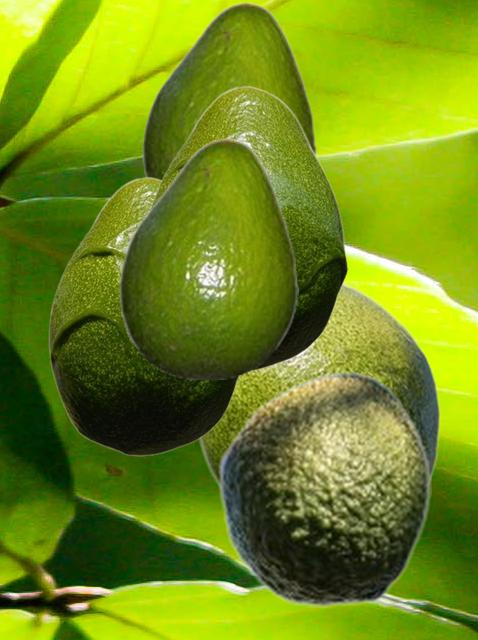avocado: (148, 85, 347, 371), (48, 176, 239, 455), (195, 279, 440, 489), (217, 371, 430, 606), (118, 137, 297, 378), (141, 1, 315, 178)
